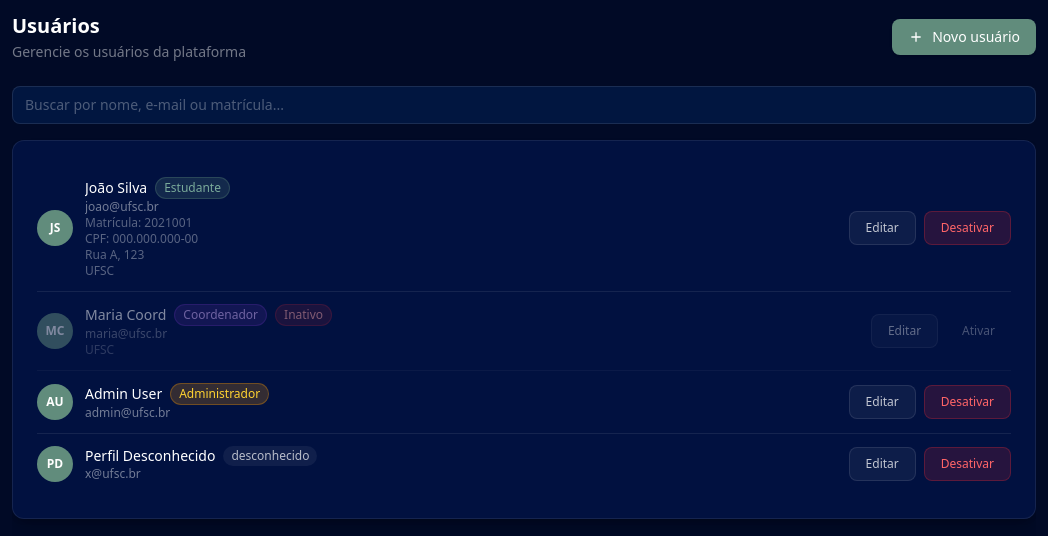
Usuarios — busca › filtra por e-mail
Expected: the text "João Silva" is shown, [85,178,147,198]
In the field with placeholder "Buscar por nome, e-mail ou matrícula...": coordinates (524, 105) [12,86,1036,124], type "admin@ufsc"
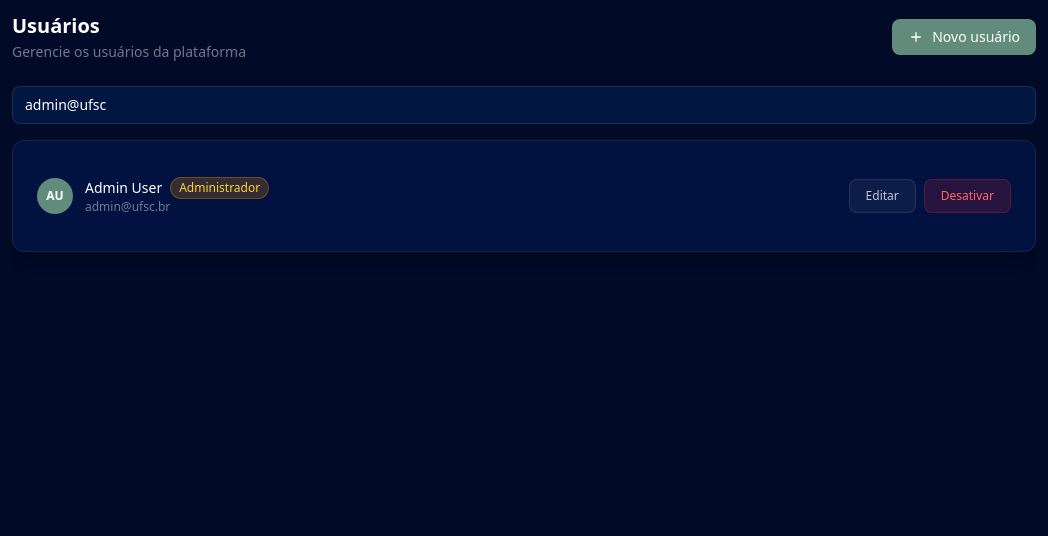
Expected: the text "Admin User" is shown, [85,178,162,198]
Expected: the text "João Silva" is gone
